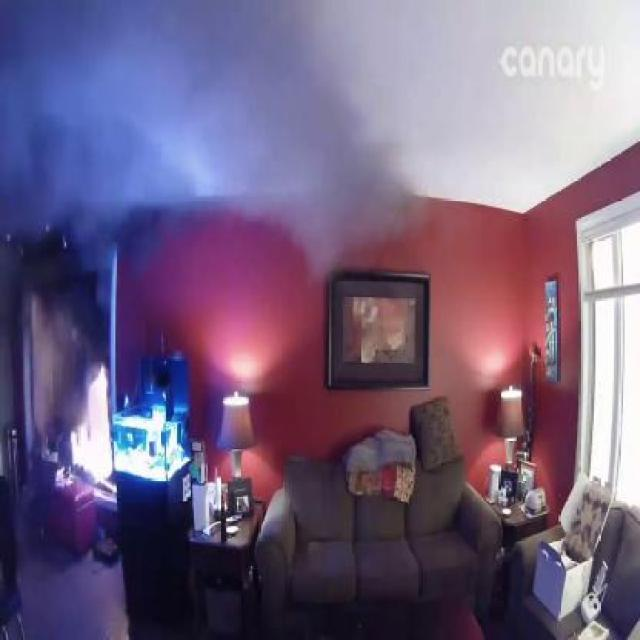fire: (0, 0, 429, 283)
